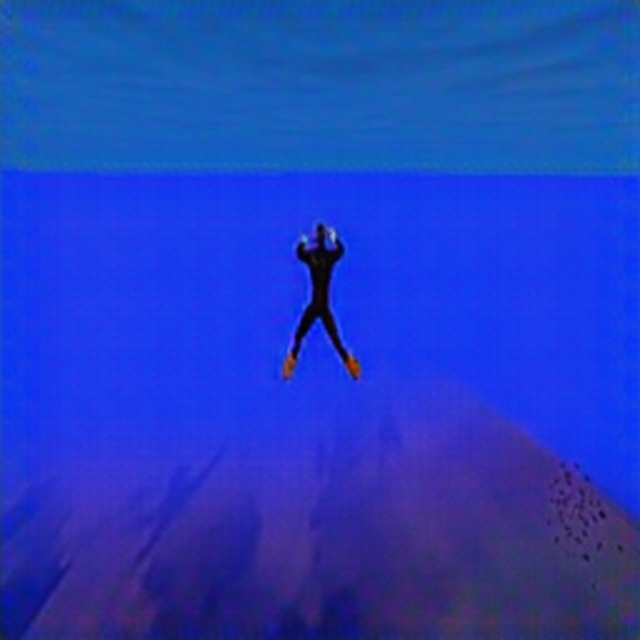diver: (280, 220, 362, 382)
